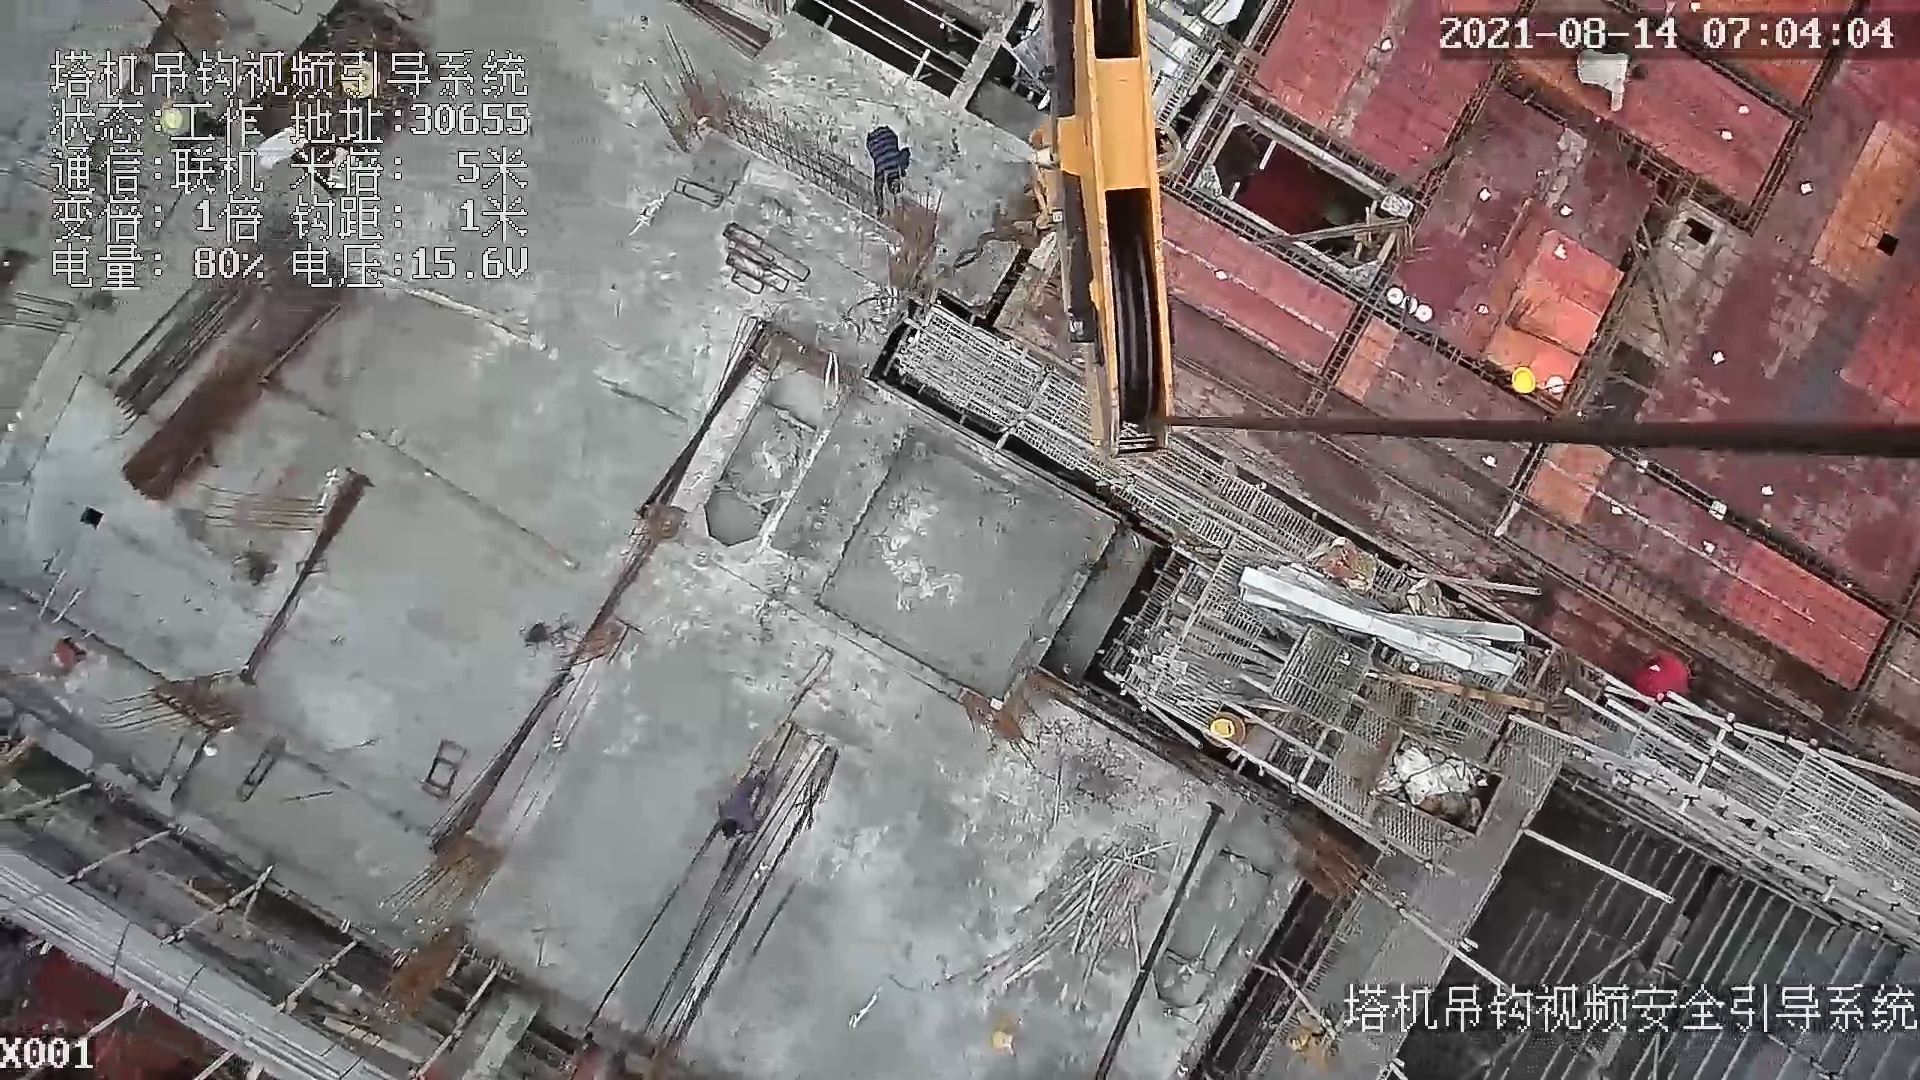helmet: (1508, 364, 1538, 398)
hook: (1001, 1, 1183, 453)
person: (860, 127, 918, 221), (1569, 49, 1648, 115), (1627, 643, 1711, 700), (718, 773, 768, 841)
